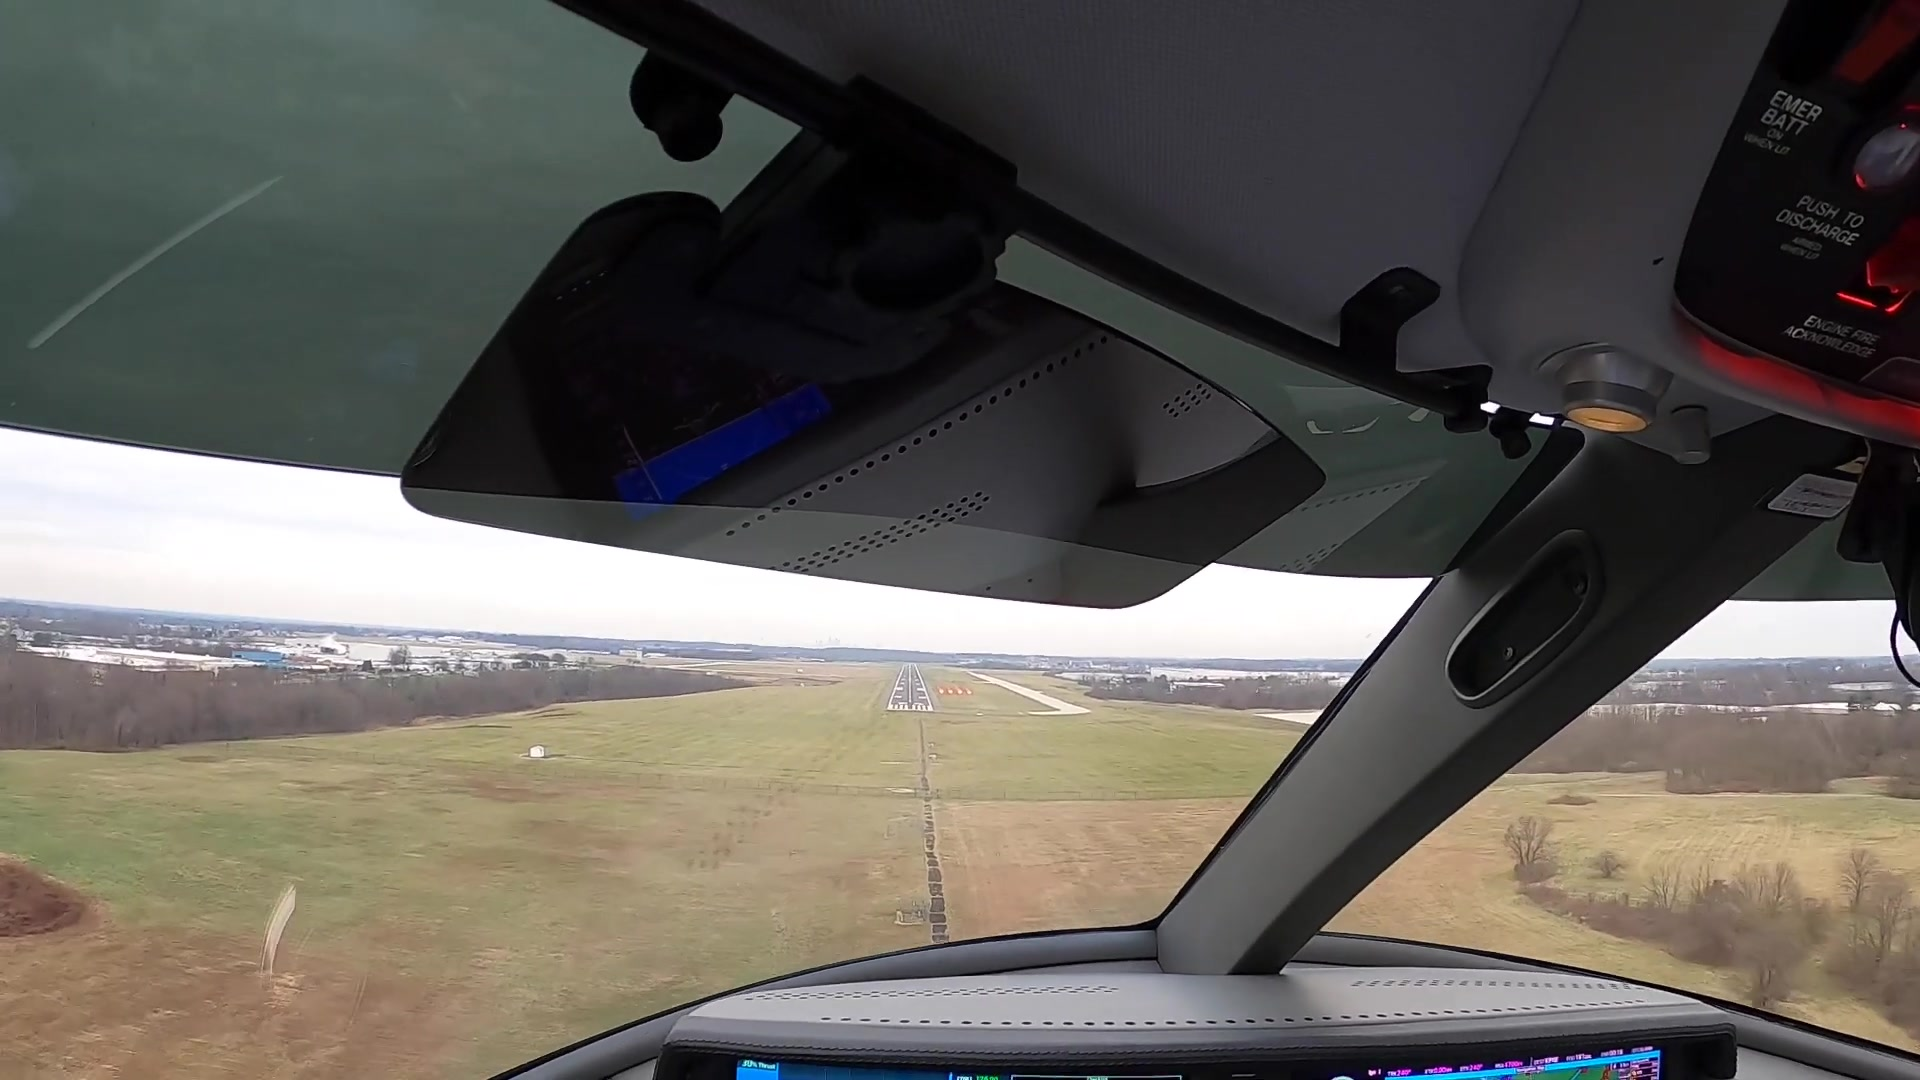entrance: (887, 704, 932, 712)
runway: (884, 661, 936, 717)
